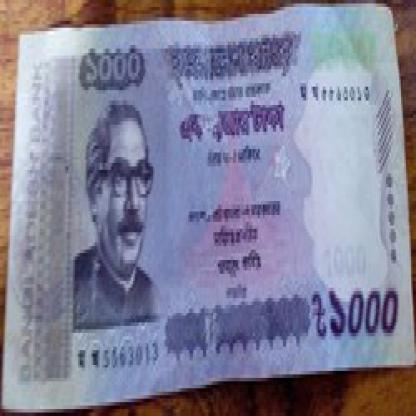One Thousand taka: (308, 288, 404, 343), (80, 49, 146, 90)
